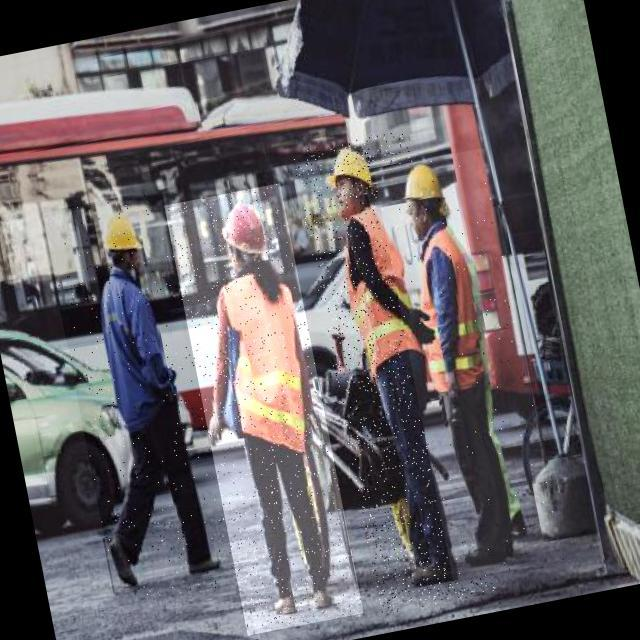Gloves: (197, 398, 236, 452), (399, 305, 439, 350), (442, 364, 466, 398)
Helmet: (217, 200, 271, 262), (322, 145, 373, 196), (99, 211, 144, 257), (400, 162, 445, 206)
Person: (398, 154, 524, 577), (87, 157, 194, 630), (199, 193, 315, 621), (318, 140, 396, 598)
Safety Boot: (103, 533, 145, 594), (409, 556, 461, 591), (464, 541, 514, 571), (182, 553, 227, 579), (311, 588, 337, 613), (272, 595, 299, 619)
Safety Vest: (212, 269, 323, 465), (333, 203, 428, 387), (402, 222, 501, 395)
